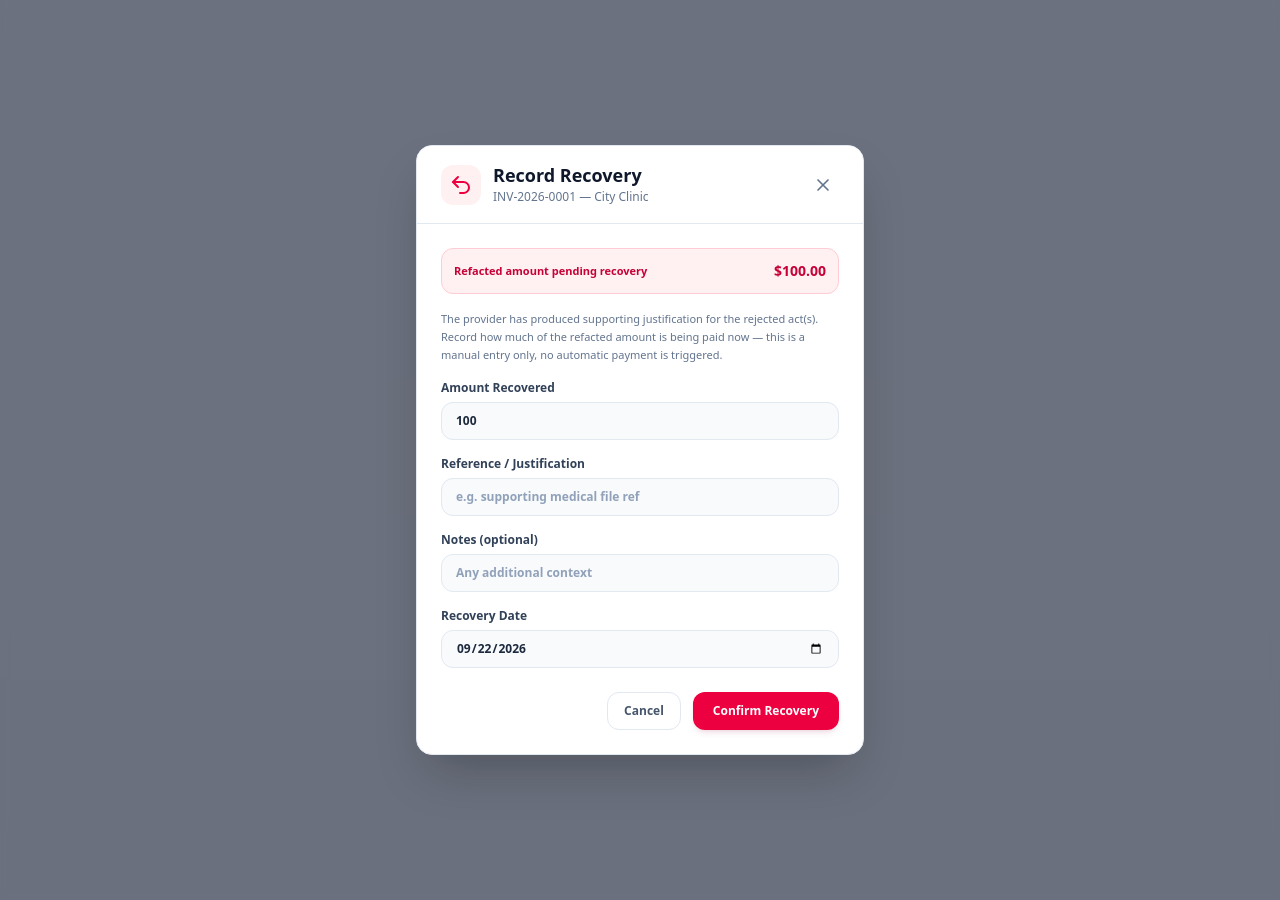
Test: RecordRecoveryModal — react-hook-form + zod › n'enregistre pas le recouvrement si le montant est hors bornes (0)
Replace the text in the number field with "0" at (640, 421), box [441,402,839,440]
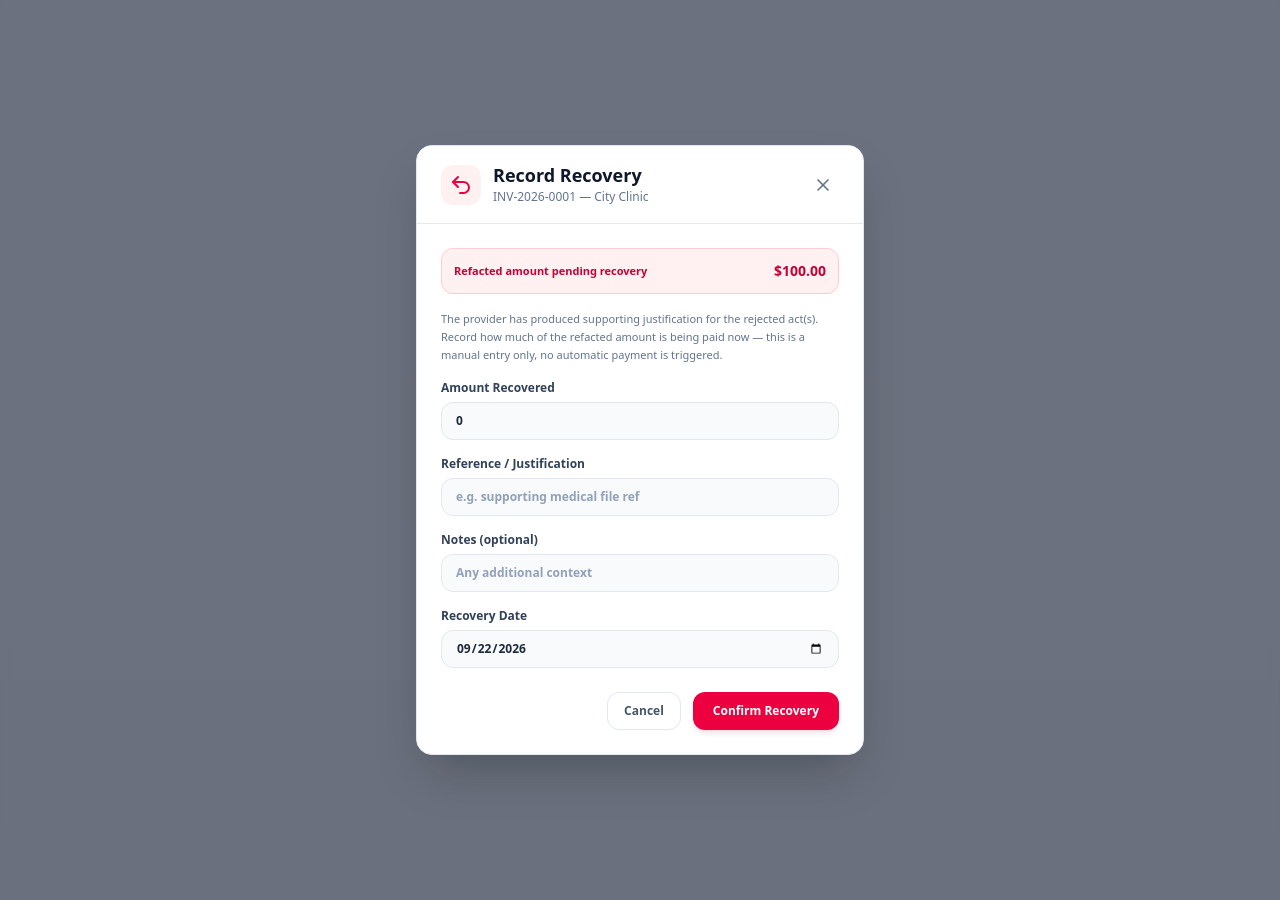
Click the button "Confirm Recovery" at (766, 711), box [693,692,839,730]
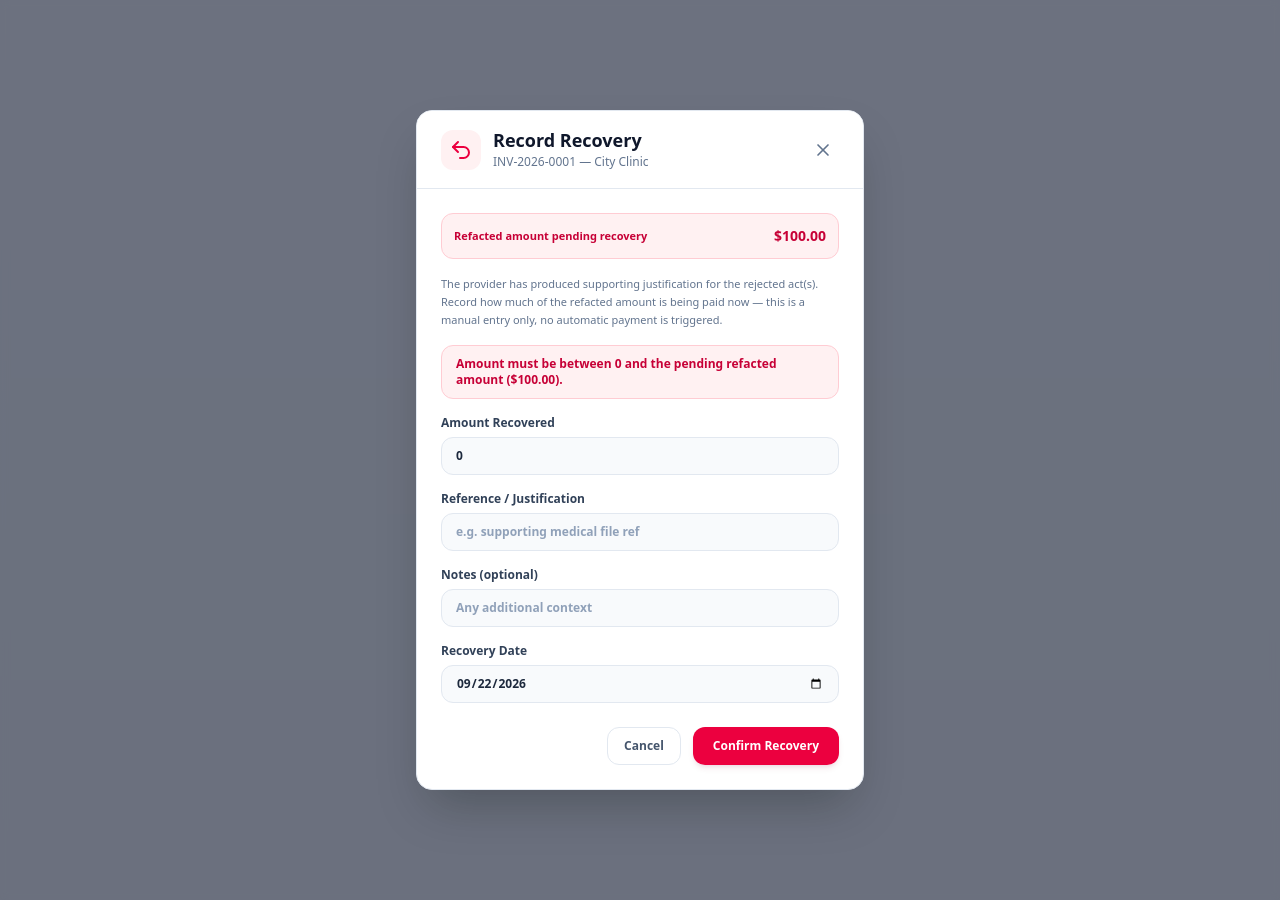
Expected: the text "Amount must be between 0 and the pending refacted amount ($100.00)." is shown, [441,345,839,399]
